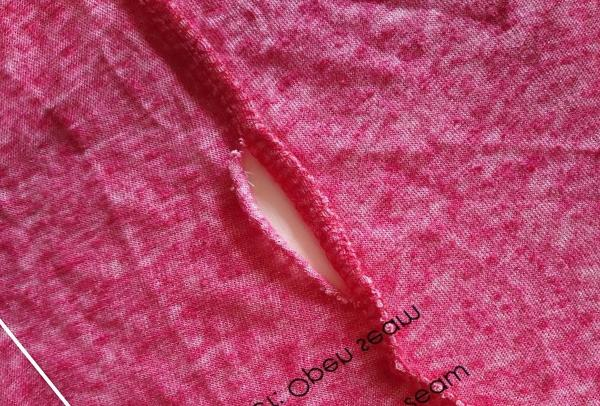hole: (227, 137, 364, 310)
